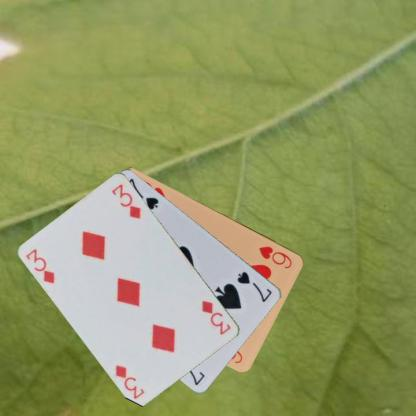3d: (199, 298, 233, 336), (24, 246, 57, 285)
6h: (257, 243, 294, 270)
7s: (234, 269, 274, 304)
